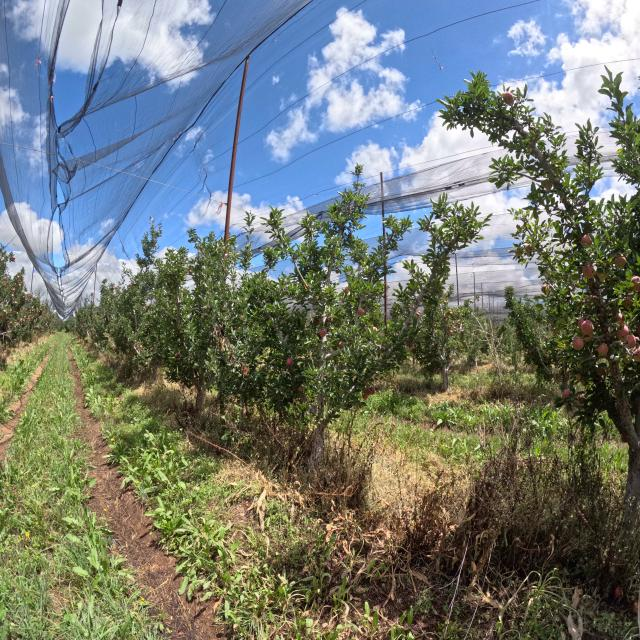-FireBlight-: (212, 323, 229, 351), (241, 362, 248, 377)
